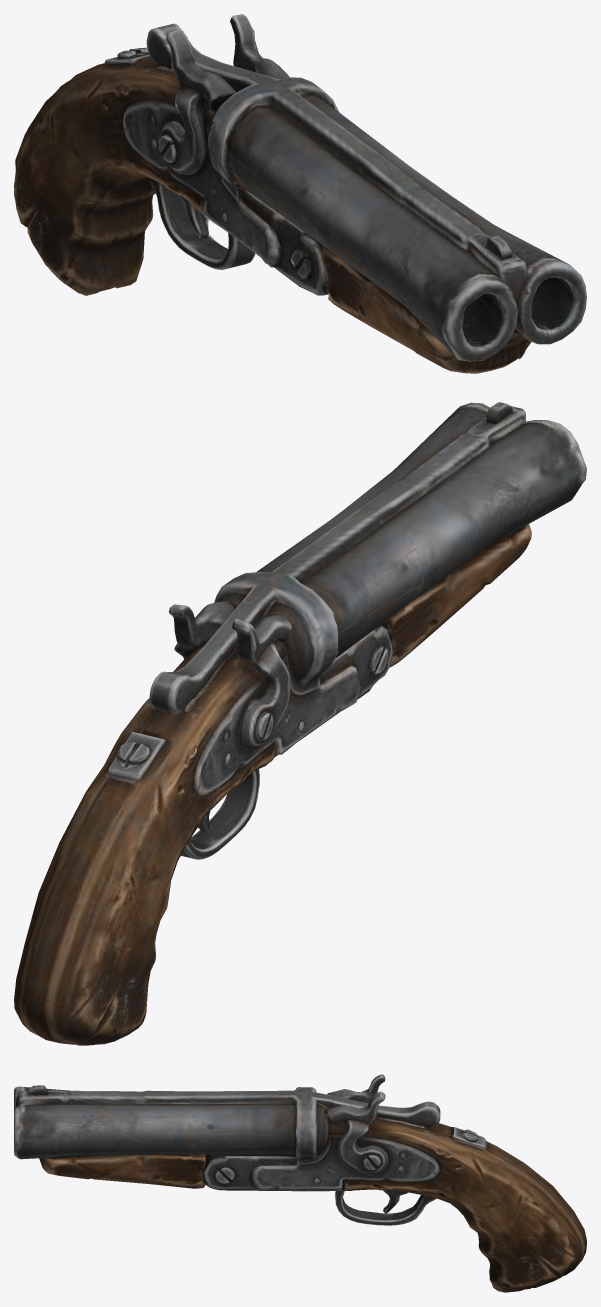
File: sawed_off.glb
3 views of the same model, one above another, from view 1: azimuth 30°, elevation 25°; view 2: azimuth 150°, elevation 25°; view 3: azimuth 270°, elevation 25° (orthographic). The views are drawn at different scales.
Parts seen in each view (by area): view 1: w_sawed_off; view 2: w_sawed_off; view 3: w_sawed_off.
Part boxes in pixels (x1,y1,x2,y2): w_sawed_off: (14,14,586,373); w_sawed_off: (14,402,586,1045); w_sawed_off: (14,1074,586,1292).
Bounding box in the file's own units: 0.0924 × 0.2155 × 0.55.
1 material, 1 textured.
